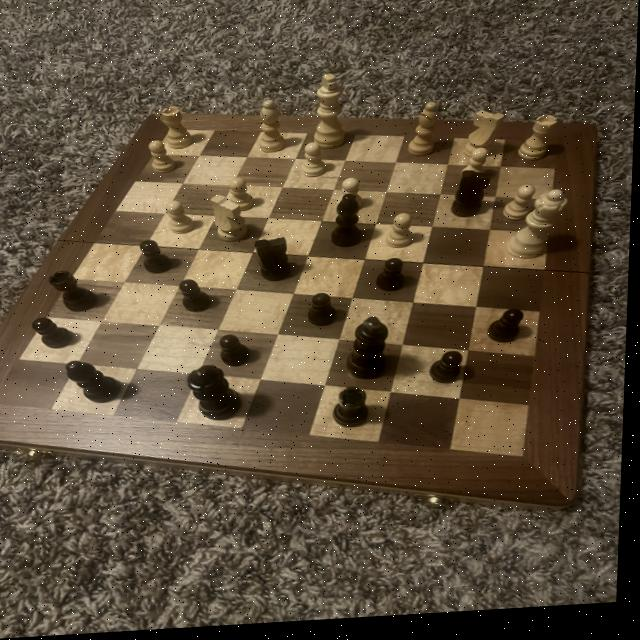bishop: (66, 357, 125, 408), (331, 196, 369, 255)
black-bishop: (343, 319, 396, 389)
black-king: (253, 236, 305, 287), (452, 173, 499, 226)
black-knight: (32, 315, 81, 354), (486, 313, 530, 352), (137, 238, 178, 278), (430, 354, 470, 393), (306, 294, 344, 335), (177, 280, 215, 318), (220, 335, 259, 371), (377, 261, 410, 300)
black-pawn: (189, 365, 251, 430)
black-queen: (48, 268, 105, 316), (333, 388, 380, 438)
black-rook: (404, 104, 449, 166), (254, 100, 289, 162)
white-bishop: (312, 76, 349, 158)
white-king: (460, 114, 510, 166), (210, 194, 254, 248)
white-knight: (164, 198, 199, 240), (504, 188, 540, 227), (148, 139, 183, 179), (384, 216, 419, 255), (225, 181, 262, 216), (300, 142, 331, 183), (337, 181, 367, 217), (462, 151, 490, 184)
white-pawn: (504, 187, 572, 273)
white-queen: (516, 121, 562, 169), (157, 105, 197, 155)
